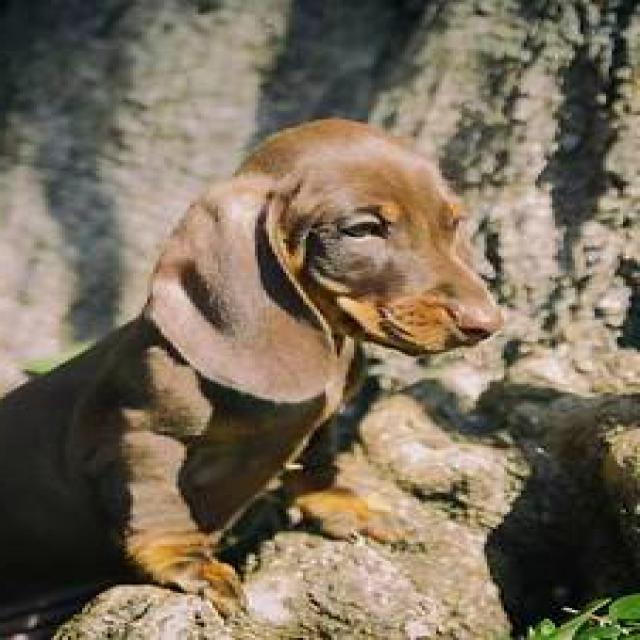KOPEK: (0, 111, 527, 599)
